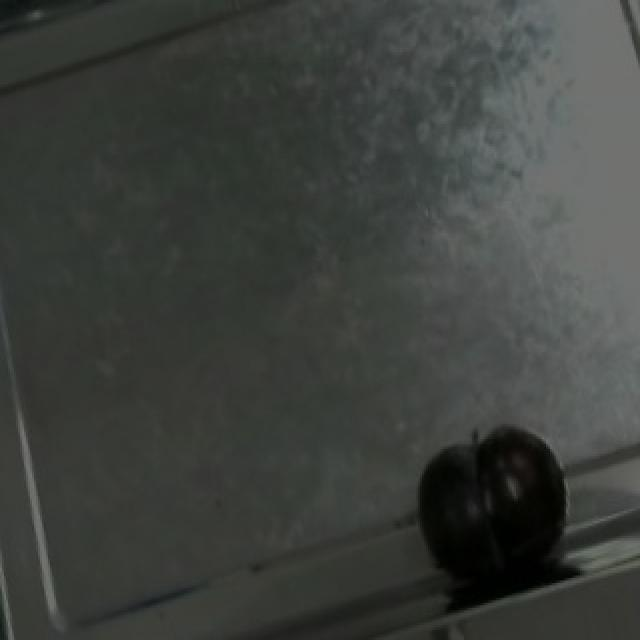Fruit: (400, 419, 588, 618)
